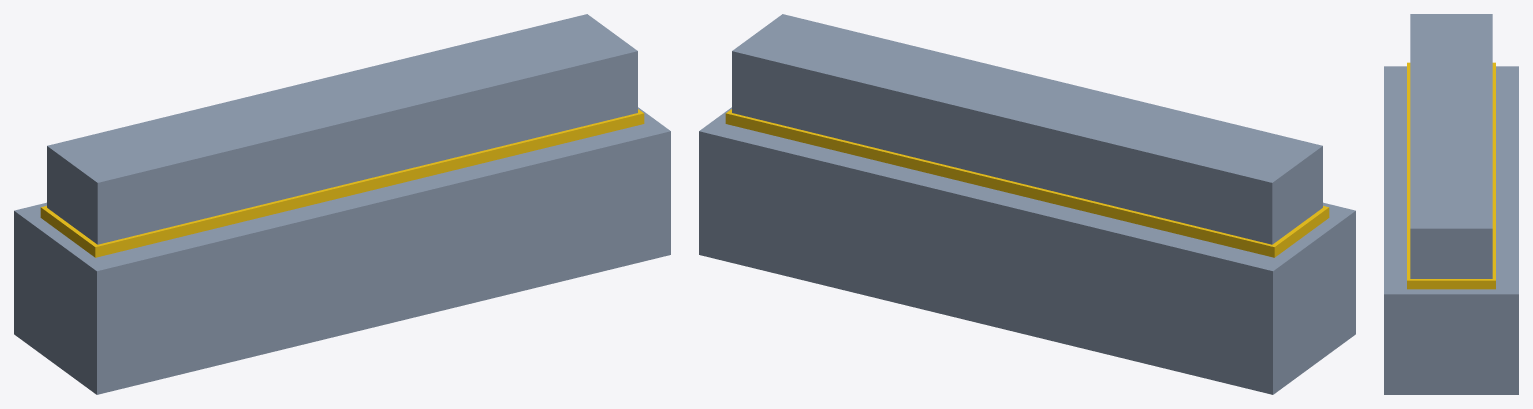
Rendered from concrete_barrier.glb.
The picture shows the model from 3 angles, left to right: view 1: azimuth 30°, elevation 25°; view 2: azimuth 150°, elevation 25°; view 3: azimuth 270°, elevation 25°; orthographic projection. The views are drawn at different scales.
Parts seen in each view (by area): view 1: concrete_barrier; view 2: concrete_barrier; view 3: concrete_barrier.
Part boxes in pixels (bbox=[...]): concrete_barrier: bbox=[14, 14, 670, 394]; concrete_barrier: bbox=[699, 14, 1355, 394]; concrete_barrier: bbox=[1384, 14, 1518, 394].
Size of the model in its own units: 3.4 by 1.11 by 0.85.
